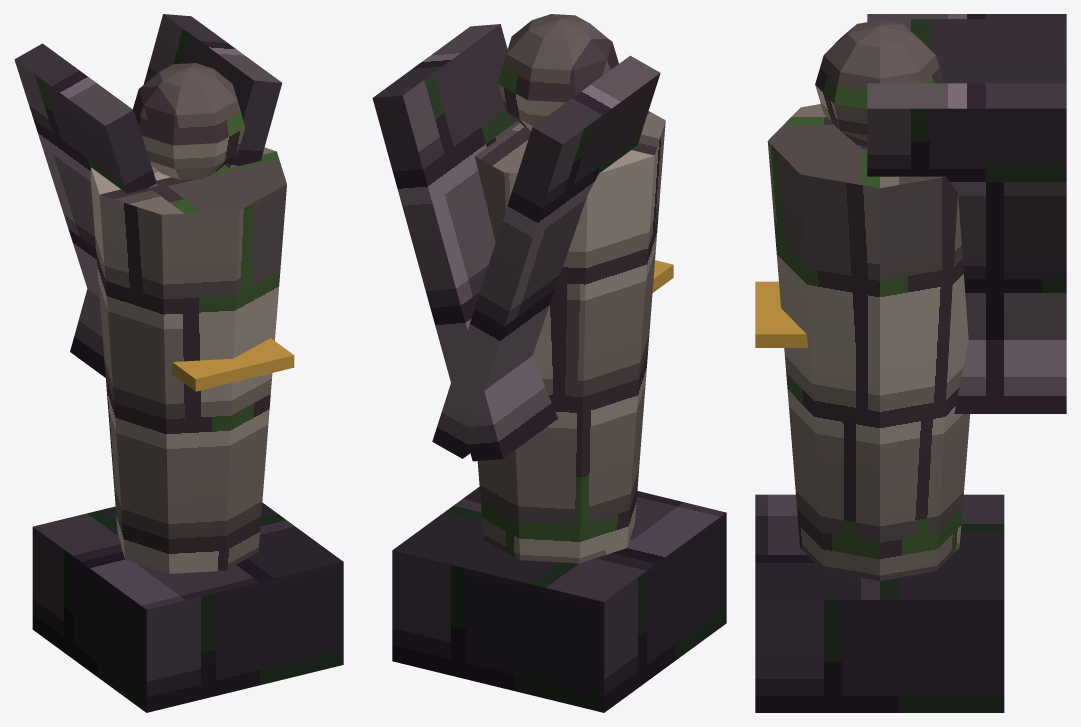
Rendered from angel_statue.glb.
3 renders of one model, left to right at view 1: azimuth 30°, elevation 25°; view 2: azimuth 150°, elevation 25°; view 3: azimuth 270°, elevation 25°, orthographic. The views are drawn at different scales.
Parts seen in each view (by area): view 1: angel_statue; view 2: angel_statue; view 3: angel_statue.
Boxes of the visible parts, x1,y1,x2,y2 form: angel_statue: (14, 14, 343, 712); angel_statue: (372, 14, 726, 712); angel_statue: (755, 14, 1066, 712).
Size of the model in its own units: 1 by 2.81 by 1.25.
2 materials, 1 textured.
